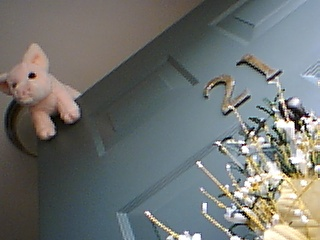piggy: (1, 40, 84, 142)
